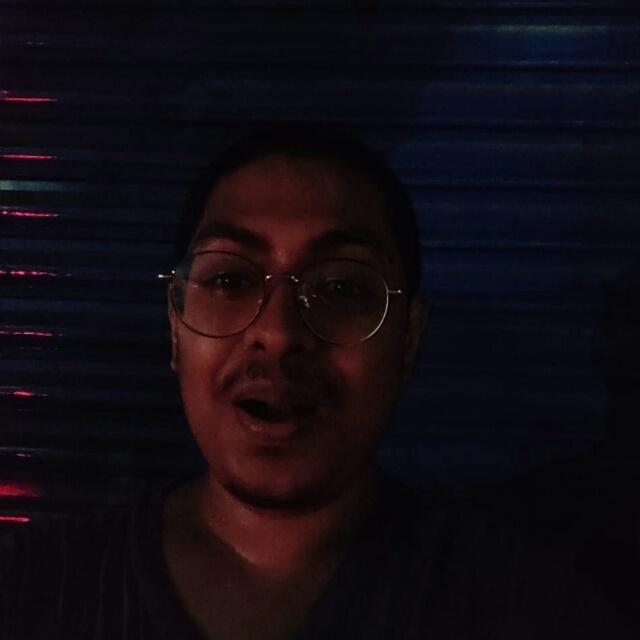surprised: (132, 106, 489, 574)
